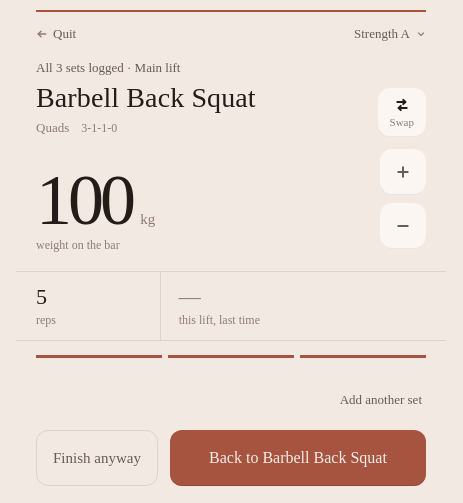
Test case: the last-block fork with an earlier block left short › Add another set still leads to a logged set
Click the button "Add another set".
click(381, 400)  # box [336,382,426,418]
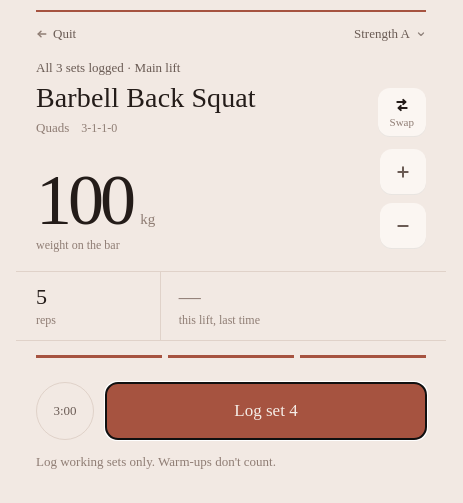
Expected: the button "Log set 4" is shown, [106,383,426,439]
Expected: the button "Back to" is gone
